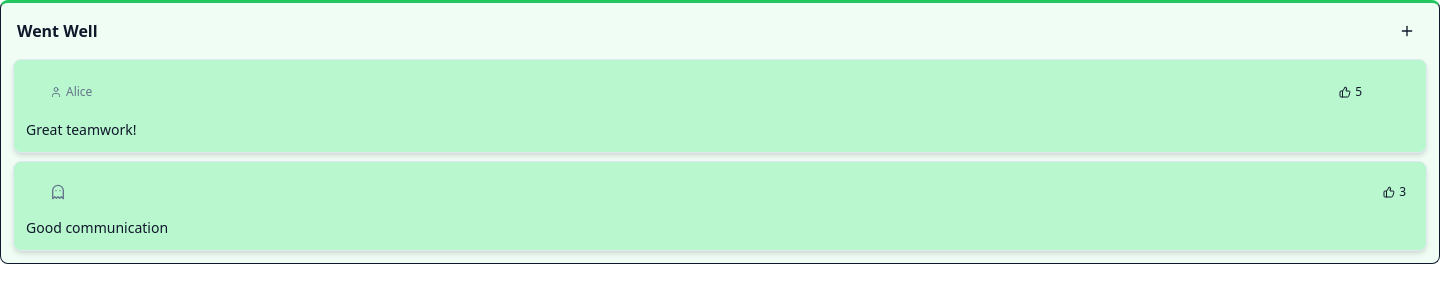
Test: RetroColumn › Edit Column Title (Admin) › should show inline edit input when column title is clicked
Click the button with aria-label "edit column name": (57, 31) [17, 19, 98, 43]
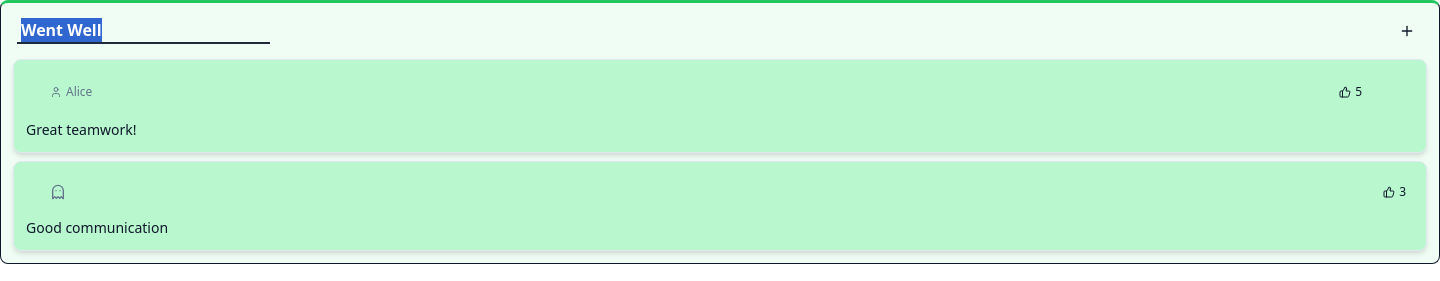
Expected: the field named "edit column name" is shown, [17, 18, 270, 44]
